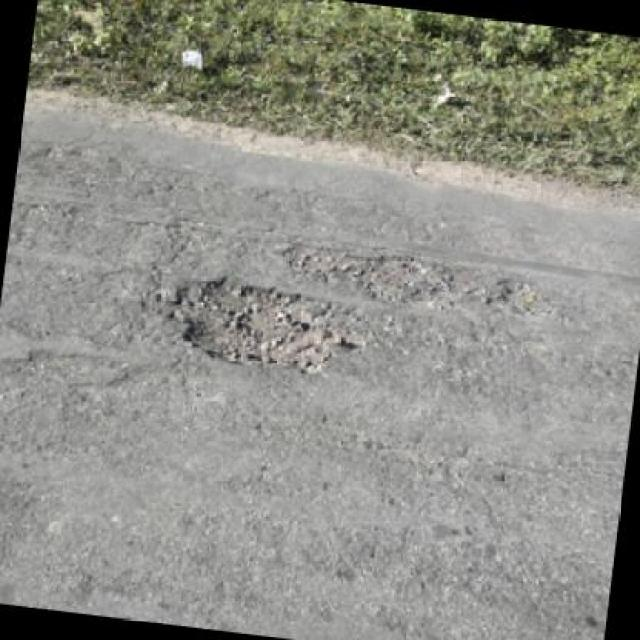pothole1: (153, 268, 355, 382), (274, 235, 474, 311), (478, 273, 562, 324)
